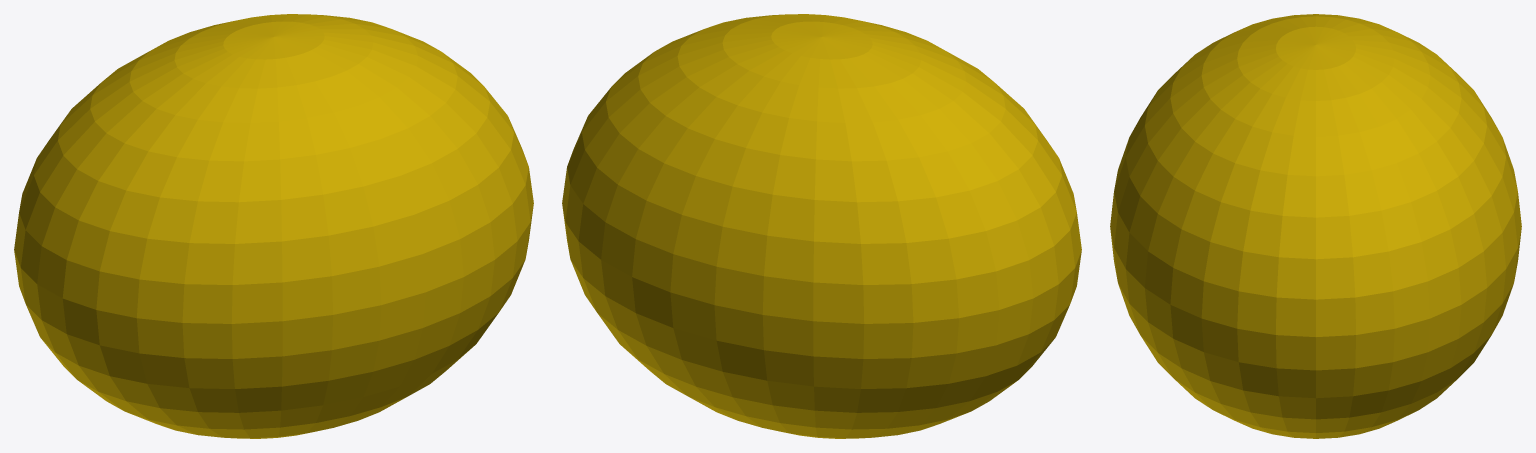
File: sol6.obj
3 renders of one model, left to right at view 1: azimuth 30°, elevation 25°; view 2: azimuth 150°, elevation 25°; view 3: azimuth 270°, elevation 25°, orthographic. The views are drawn at different scales.
Visible parts, largest first — view 1: Sphere; view 2: Sphere; view 3: Sphere.
Part boxes in pixels (<box>): Sphere: <box>14,14,533,438</box>; Sphere: <box>562,14,1081,438</box>; Sphere: <box>1110,14,1521,438</box>.
Size of the model in its own units: 0.8943 by 0.6842 by 0.703.
